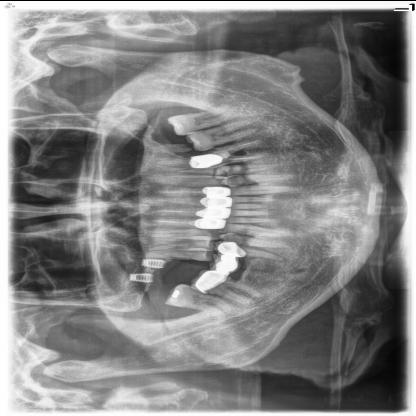Bicon: (125, 270, 160, 282), (139, 256, 167, 268)
